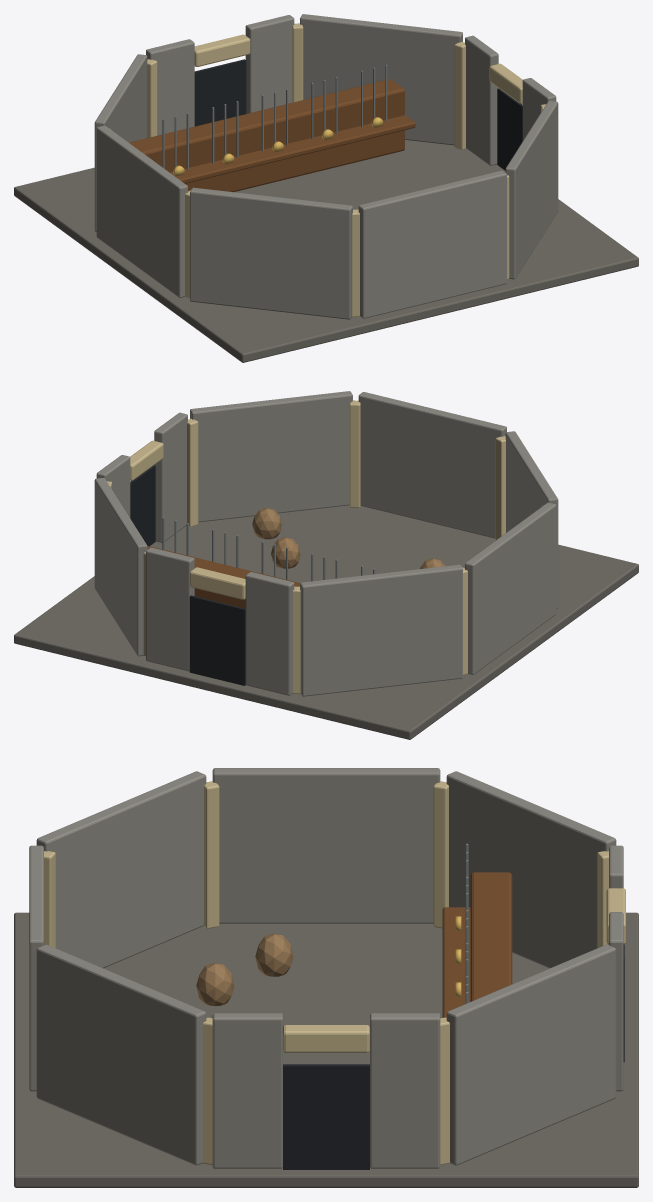
The model's file is pendelhaven_bank_4171.glb.
The picture shows the model from 3 angles, top to bottom: view 1: azimuth 30°, elevation 25°; view 2: azimuth 150°, elevation 25°; view 3: azimuth 270°, elevation 25°; orthographic projection. The views are drawn at different scales.
Parts seen in each view (by area): view 1: Room floor, SW solid wall, S solid wall, Teller partition, NE solid wall, W solid wall, SE solid wall, N doorway right, E doorway left, N doorway left, Teller counter, NW solid wall (+10 smaller); view 2: Room floor, NW solid wall, SE solid wall, S solid wall, W solid wall, NE solid wall, N doorway left, N doorway right, N passage shadow, E doorway right, SW solid wall, E passage shadow (+11 smaller); view 3: Room floor, W solid wall, NE solid wall, SE solid wall, SW solid wall, NW solid wall, E doorway left, E doorway right, E passage shadow, Teller partition, S solid wall, Teller counter (+12 smaller).
Boxes of the visible parts, <box> form: Room floor: <box>14,140,638,362</box>; SW solid wall: <box>190,187,352,319</box>; S solid wall: <box>358,170,506,318</box>; Teller partition: <box>129,79,404,192</box>; NE solid wall: <box>300,14,462,145</box>; W solid wall: <box>96,125,187,297</box>; SE solid wall: <box>505,101,558,279</box>; N doorway right: <box>245,15,294,113</box>; E doorway left: <box>465,35,498,165</box>; N doorway left: <box>146,39,194,135</box>; Teller counter: <box>170,115,415,183</box>; NW solid wall: <box>94,54,147,231</box>; Room floor: <box>14,505,638,739</box>; NW solid wall: <box>300,564,462,696</box>; SE solid wall: <box>190,391,352,522</box>; S solid wall: <box>358,392,506,538</box>; W solid wall: <box>465,502,556,674</box>; NE solid wall: <box>94,478,147,656</box>; N doorway left: <box>245,572,294,695</box>; N doorway right: <box>146,547,194,671</box>; N passage shadow: <box>189,595,245,685</box>; E doorway right: <box>154,412,187,542</box>; SW solid wall: <box>505,431,558,608</box>; E passage shadow: <box>130,465,155,546</box>; Room floor: <box>14,912,638,1187</box>; W solid wall: <box>212,768,440,923</box>; NE solid wall: <box>446,944,616,1165</box>; SE solid wall: <box>36,944,206,1165</box>; SW solid wall: <box>36,771,206,968</box>; NW solid wall: <box>446,771,616,968</box>; E doorway left: <box>370,1013,440,1168</box>; E doorway right: <box>212,1013,282,1168</box>; E passage shadow: <box>283,1064,369,1169</box>; Teller partition: <box>470,872,512,1001</box>; S solid wall: <box>29,845,43,1091</box>; Teller counter: <box>442,907,470,1017</box>.
Bounding box in the file's own units: 18 × 5.2 × 18.
